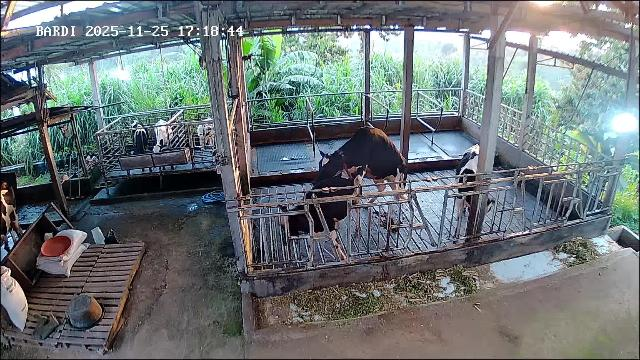mounting: (315, 126, 407, 227)
